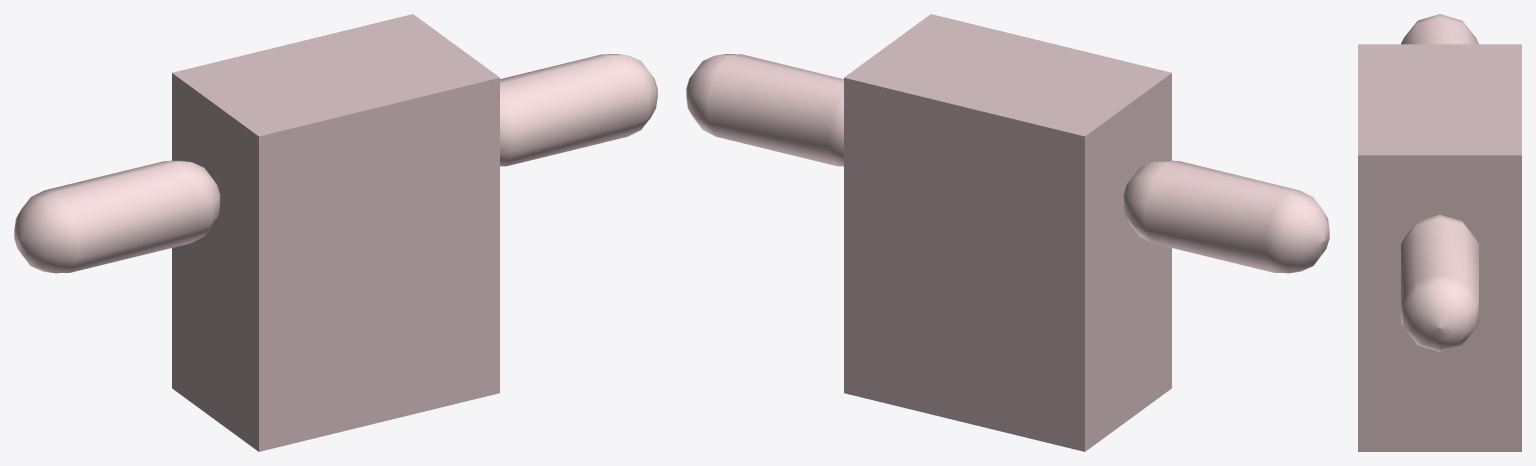
File: blush-top.glb
3 views of the same model, side by side, from view 1: azimuth 30°, elevation 25°; view 2: azimuth 150°, elevation 25°; view 3: azimuth 270°, elevation 25° (orthographic). The views are drawn at different scales.
Parts seen in each view (by area): view 1: blush_top_torso, blush_top_sleeve_L, blush_top_sleeve_R; view 2: blush_top_torso, blush_top_sleeve_L, blush_top_sleeve_R; view 3: blush_top_torso, blush_top_sleeve_R, blush_top_sleeve_L.
Boxes of the visible parts, left/top/right/bottom form: blush_top_torso: left=172, top=14, right=499, bottom=451; blush_top_sleeve_L: left=14, top=160, right=220, bottom=273; blush_top_sleeve_R: left=500, top=54, right=657, bottom=166; blush_top_torso: left=844, top=14, right=1171, bottom=451; blush_top_sleeve_L: left=1123, top=160, right=1329, bottom=273; blush_top_sleeve_R: left=686, top=54, right=843, bottom=166; blush_top_torso: left=1358, top=44, right=1521, bottom=451; blush_top_sleeve_R: left=1401, top=215, right=1478, bottom=351; blush_top_sleeve_L: left=1401, top=14, right=1478, bottom=44.
Bounding box in the file's own units: 0.84 × 0.4 × 0.2.
